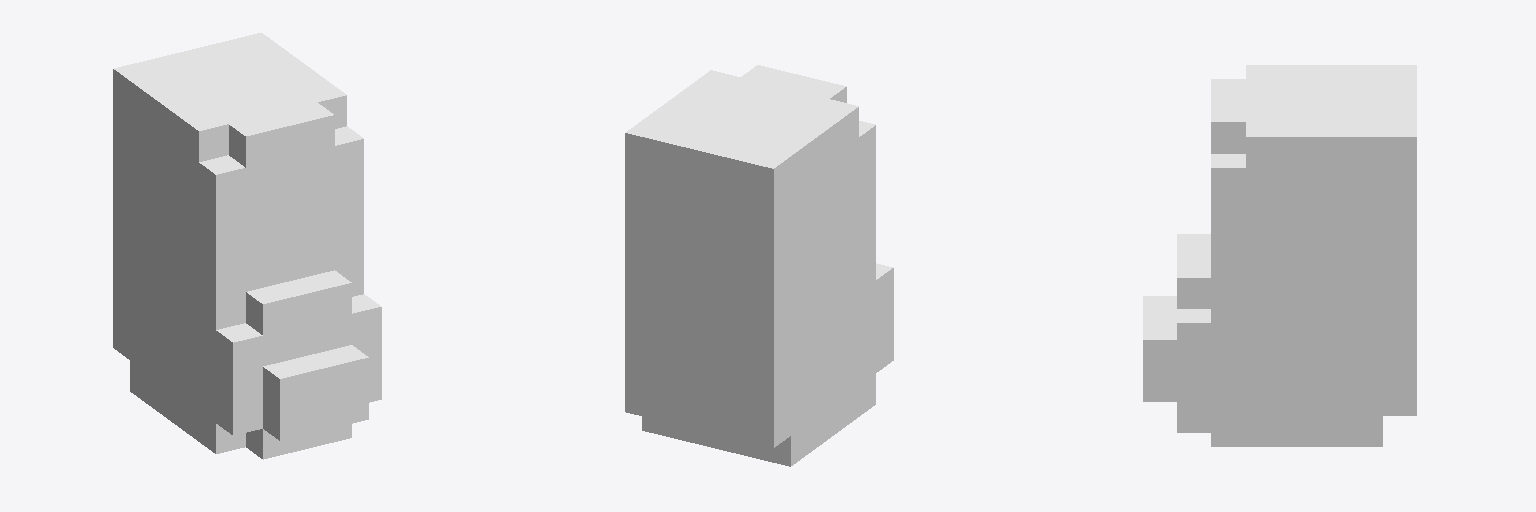
The model's file is anim_penguin_v2_body.obj.
3 renders of one model, left to right at view 1: azimuth 30°, elevation 25°; view 2: azimuth 150°, elevation 25°; view 3: azimuth 270°, elevation 25°, orthographic.
Parts seen in each view (by area): view 1: object 1; view 2: object 1; view 3: object 1.
Boxes of the visible parts, box(x1,y1,x2,y2) form: object 1: box(113, 33, 381, 459); object 1: box(625, 65, 893, 466); object 1: box(1143, 65, 1416, 446).
Bounding box in the file's own units: 0.5 × 1 × 0.8.